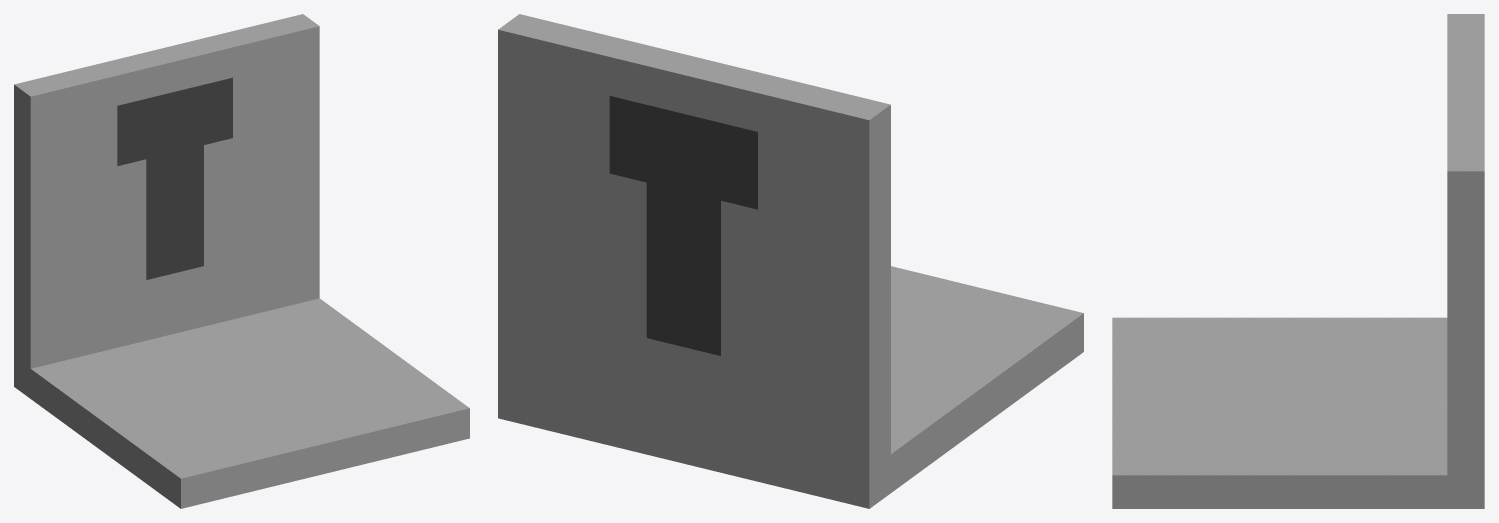
The model's file is BLR.obj.
The picture shows the model from 3 angles, left to right: view 1: azimuth 30°, elevation 25°; view 2: azimuth 150°, elevation 25°; view 3: azimuth 270°, elevation 25°; orthographic projection. The views are drawn at different scales.
Parts seen in each view (by area): view 1: BLR; view 2: BLR; view 3: BLR.
Part boxes in pixels (x1=…): BLR: x1=14, y1=14, x2=469, y2=508; BLR: x1=498, y1=14, x2=1083, y2=508; BLR: x1=1112, y1=14, x2=1484, y2=508.
Size of the model in its own units: 10 by 10 by 10.
1 material, 1 textured.
